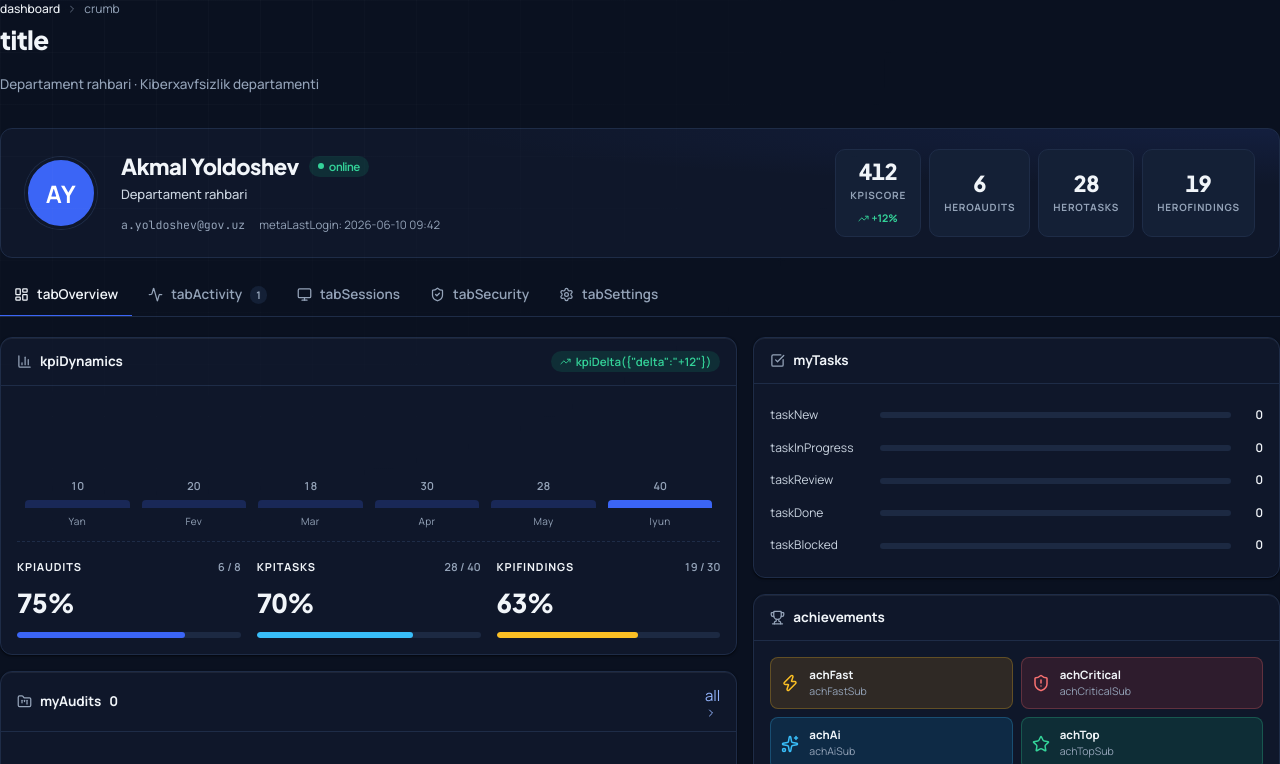
Test: ProfileScreen › switches to the security tab and shows the password fields
Click the tab "tabSecurity" at (480, 296), box [416,274,543,317]
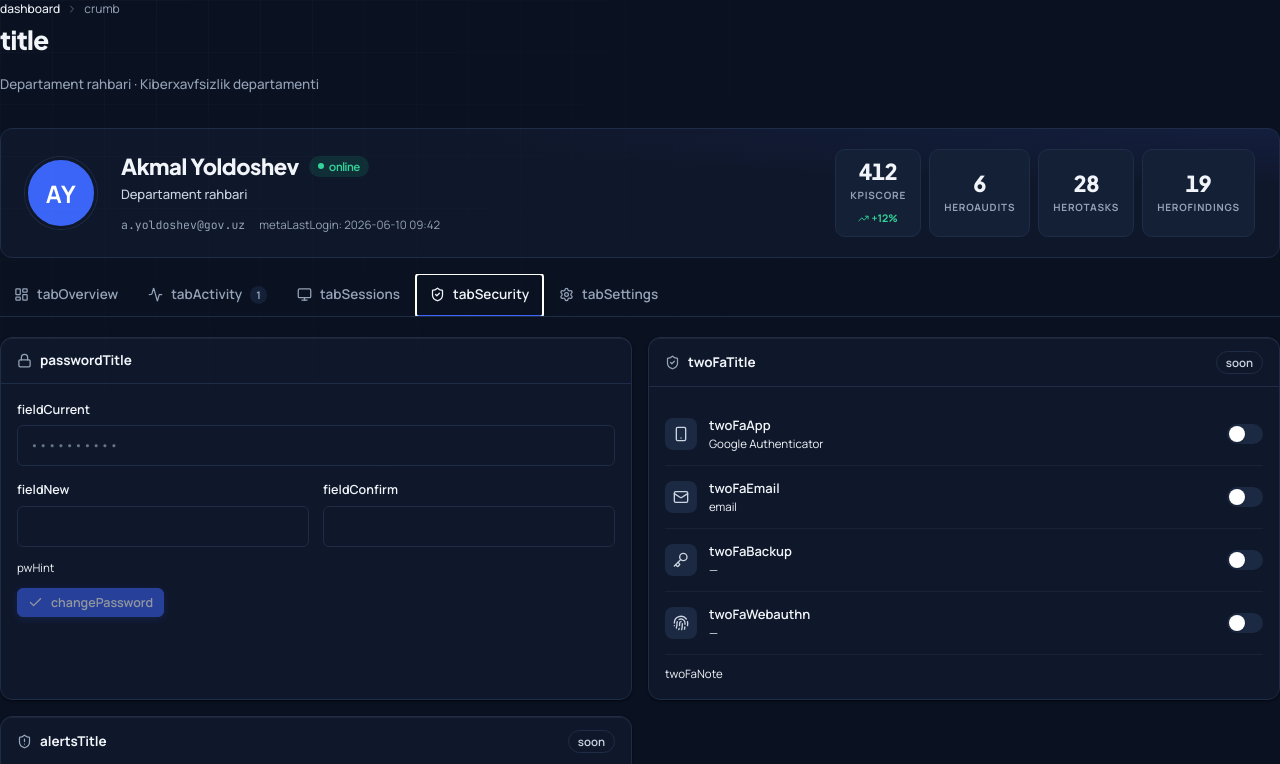
Result: the text "passwordTitle" is shown at [17,350,132,371]
Result: the button "changePassword" is shown at [17,588,164,617]
